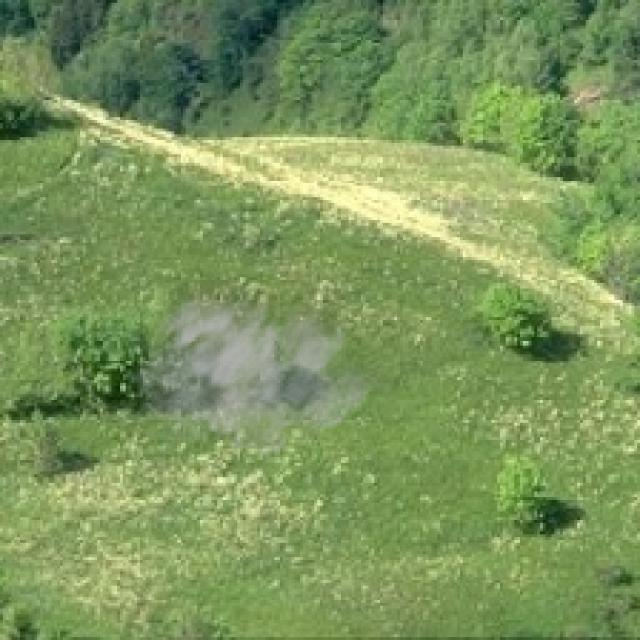Smoke: (117, 260, 386, 466)
